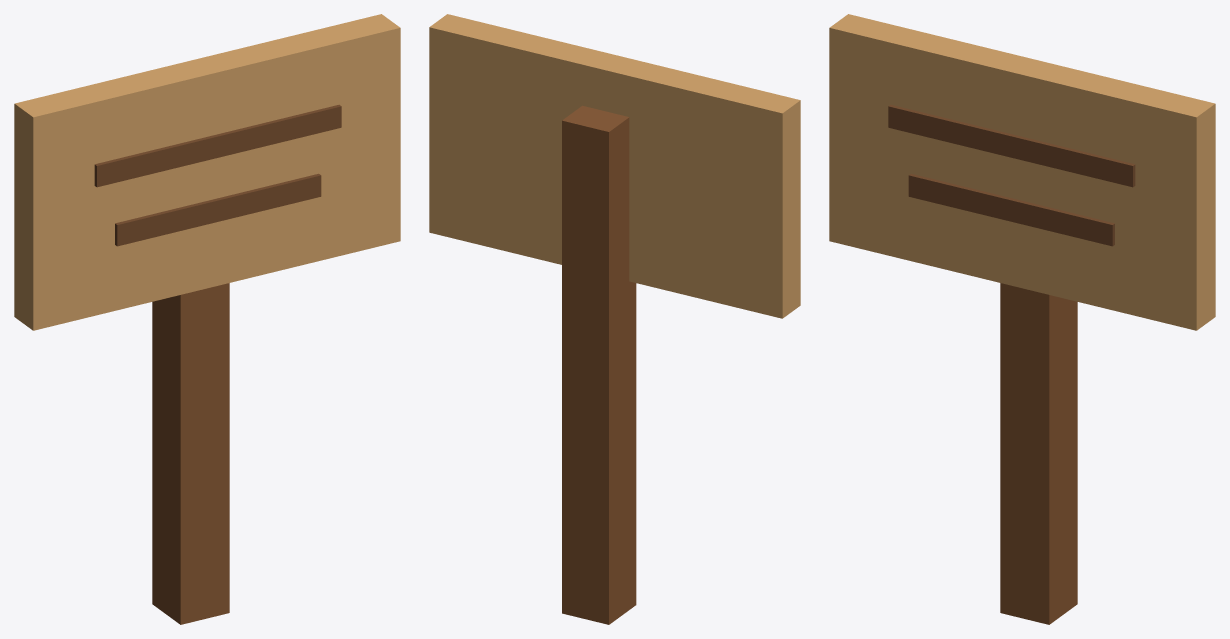
Rendered from signpost.glb.
3 views of the same model, side by side, from view 1: azimuth 30°, elevation 25°; view 2: azimuth 150°, elevation 25°; view 3: azimuth 330°, elevation 25° (orthographic). The views are drawn at different scales.
Visible parts, largest first — view 1: Signpost; view 2: Signpost; view 3: Signpost.
Part boxes in pixels (x1,y1,x2,y2): Signpost: (14,14,400,624); Signpost: (429,14,800,624); Signpost: (829,14,1215,624).
Size of the model in its own units: 0.9 by 1.3 by 0.18.
